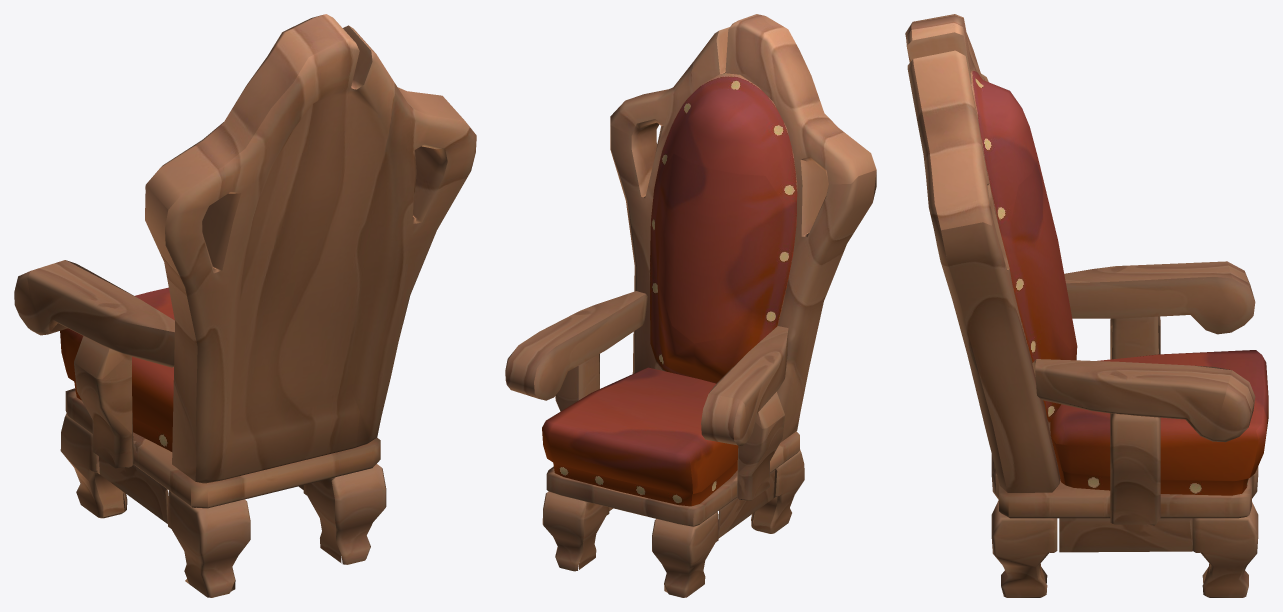
File: FUR0110006.fbx
The picture shows the model from 3 angles, left to right: view 1: azimuth 30°, elevation 25°; view 2: azimuth 150°, elevation 25°; view 3: azimuth 270°, elevation 25°; orthographic projection. The views are drawn at different scales.
Visible parts, largest first — view 1: smFUR0110006; view 2: smFUR0110006; view 3: smFUR0110006.
Part boxes in pixels (box(x1,y1,x2,y2)): smFUR0110006: box(14, 14, 476, 597); smFUR0110006: box(505, 14, 876, 597); smFUR0110006: box(905, 14, 1268, 597).
Bounding box in the file's own units: 116 × 208 × 126.
Materials: 1 (1 with a texture image).
